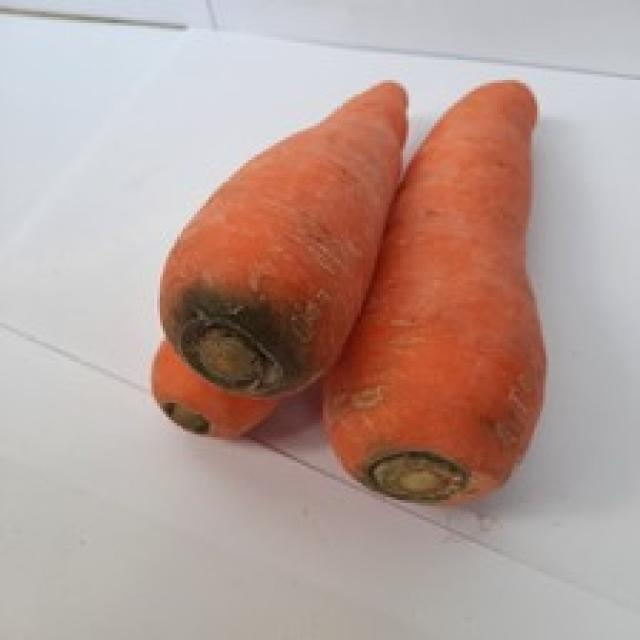Fresh_Carrot: (395, 64, 548, 442)
